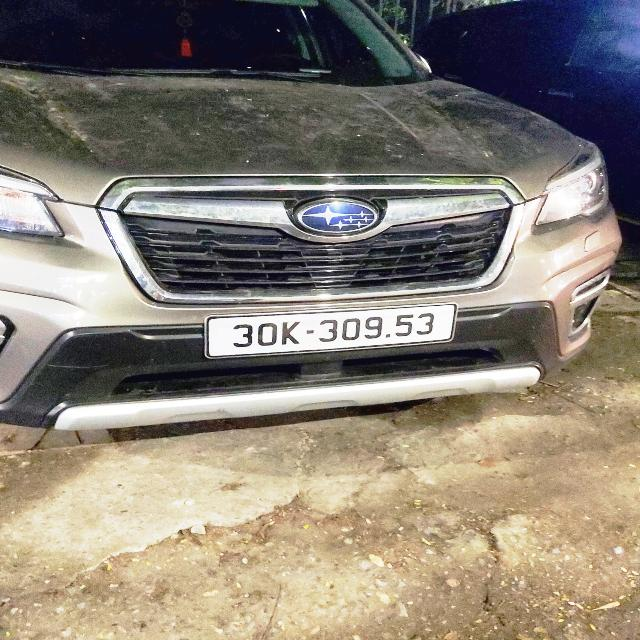license_plate: (207, 303, 460, 358)
